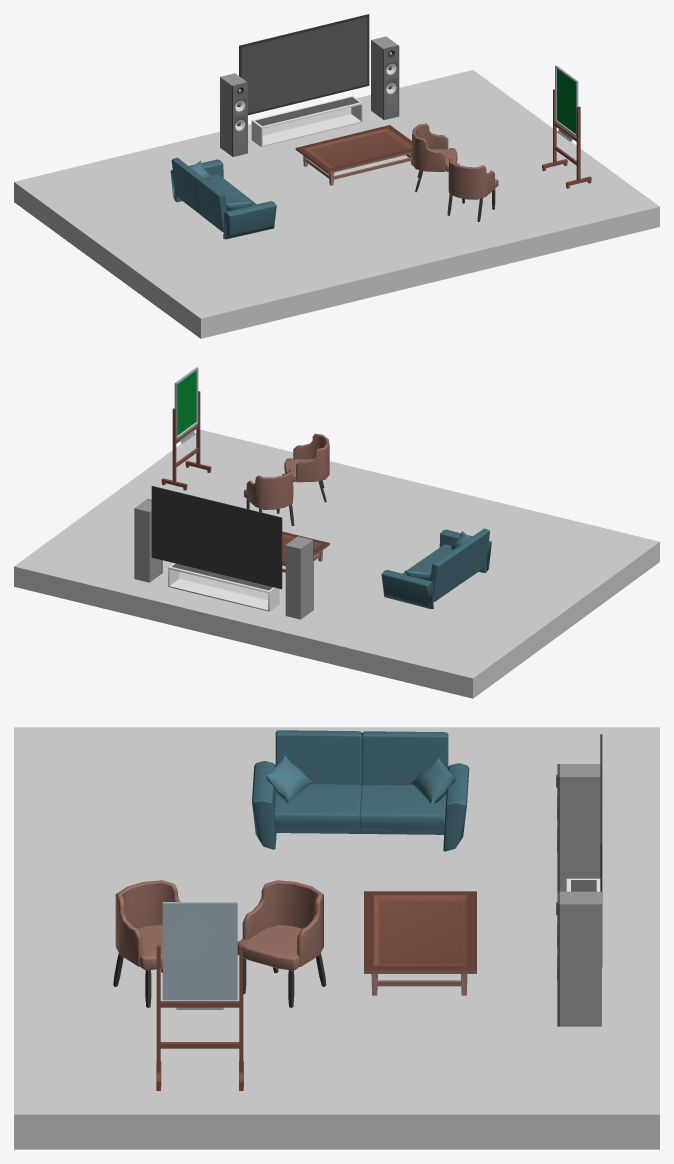
Rendered from Furniture.glb.
The picture shows the model from 3 angles, top to bottom: view 1: azimuth 30°, elevation 25°; view 2: azimuth 150°, elevation 25°; view 3: azimuth 270°, elevation 25°; orthographic projection. The views are drawn at different scales.
Visible parts, largest first — view 1: Floor, tv_wall_001, sofa_001, coffee_table_001, toy_002, lounge_chair_001, lounge_chair_001.001; view 2: Floor, tv_wall_001, sofa_001, toy_002, lounge_chair_001, lounge_chair_001.001, coffee_table_001; view 3: Floor, sofa_001, tv_wall_001, coffee_table_001, toy_002, lounge_chair_001.001, lounge_chair_001.
Part boxes in pixels (<box>): Floor: <box>14,70,659,338</box>; tv_wall_001: <box>220,14,399,156</box>; sofa_001: <box>170,157,276,239</box>; coffee_table_001: <box>295,125,412,185</box>; toy_002: <box>542,65,591,188</box>; lounge_chair_001: <box>447,158,498,221</box>; lounge_chair_001.001: <box>412,123,457,192</box>; Floor: <box>14,430,659,698</box>; tv_wall_001: <box>134,486,313,619</box>; sofa_001: <box>381,528,491,608</box>; toy_002: <box>161,367,211,490</box>; lounge_chair_001: <box>284,433,329,502</box>; lounge_chair_001.001: <box>244,468,294,525</box>; coffee_table_001: <box>282,531,329,572</box>; Floor: <box>14,727,659,1149</box>; sofa_001: <box>252,730,469,851</box>; tv_wall_001: <box>556,734,602,1026</box>; coffee_table_001: <box>364,891,476,995</box>; toy_002: <box>156,902,243,1090</box>; lounge_chair_001.001: <box>237,880,326,1007</box>; lounge_chair_001: <box>113,880,179,1007</box>.
Bounding box in the file's own units: 8.38 × 2.16 × 5.91.
Materials: 2 (2 with a texture image).
